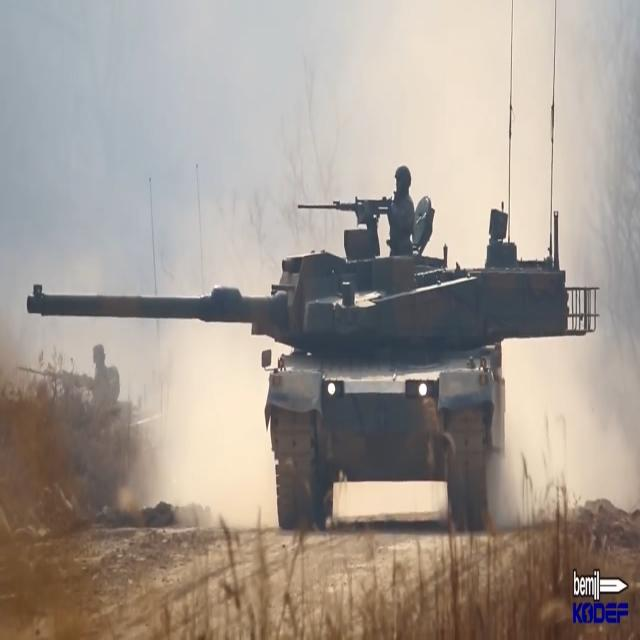korea tank: (25, 162, 600, 525)
